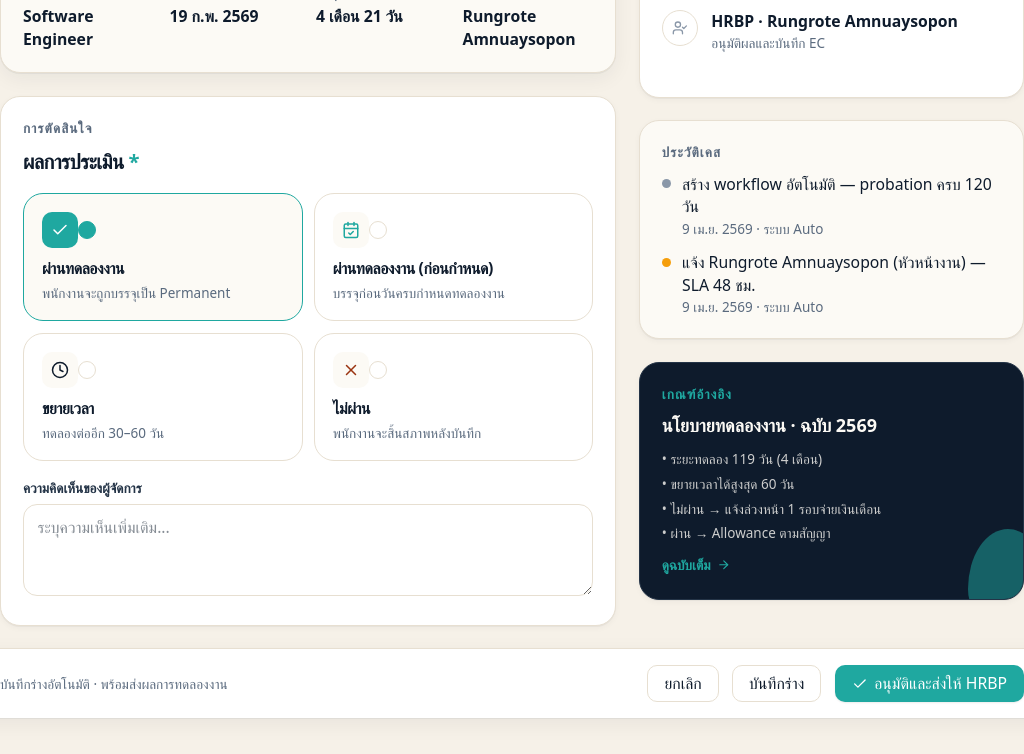
ProbationDetailPage — STA-125 pass-probation feedback › hides the effective date input on normal pass and normal fail
The image size is (1024, 754).
(page scrolled)
Expected: the field labelled "เหตุผลการไม่ผ่านทดลองงาน" is not shown
normal fail → fail reason shows, but NO effective date input
Click the button "ไม่ผ่าน พนักงานจะสิ้นสภาพหลังบันทึก": (351, 370) [314,333,593,461]
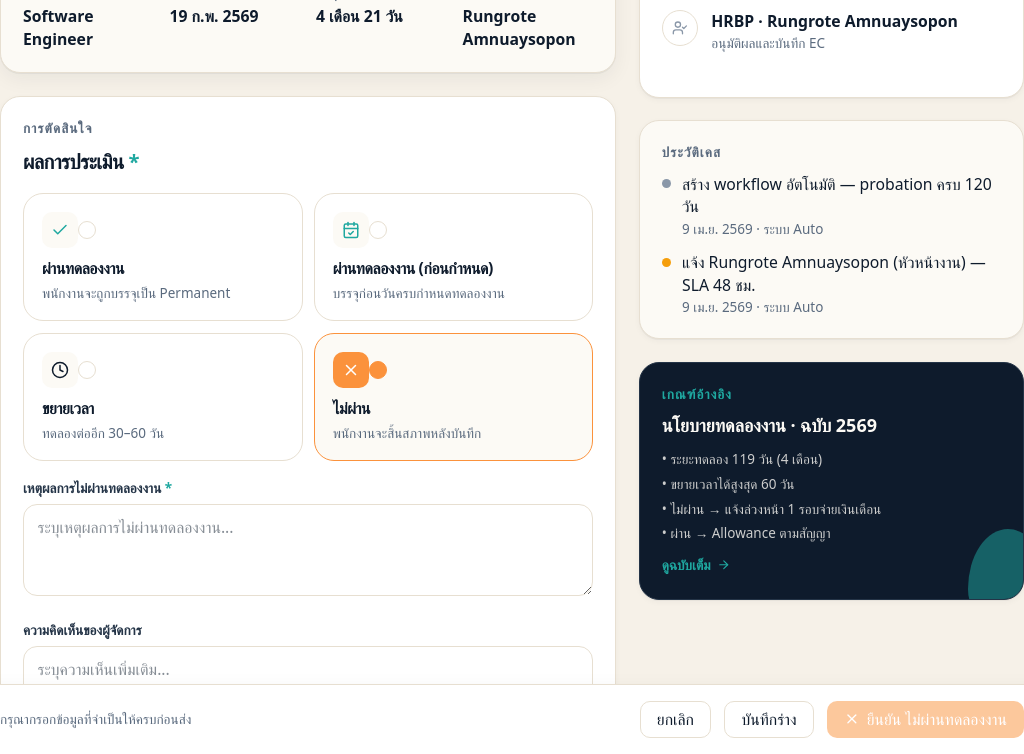
Now the text box labelled "ระบุเหตุผลการไม่ผ่านทดลองงาน..." is shown, box [23,504,593,596]
